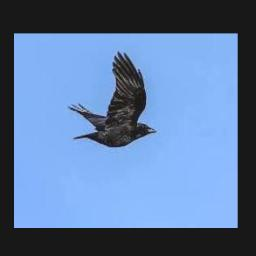Crow: (68, 51, 156, 147)
